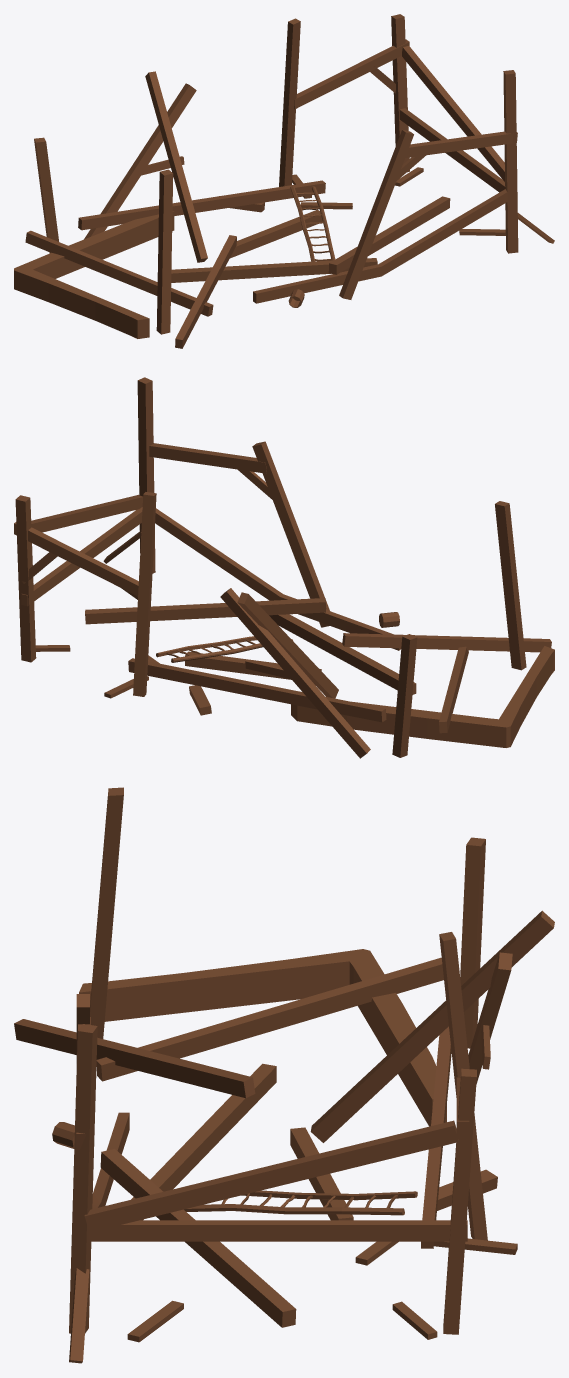
The model's file is BuildingZero.fbx.
The picture shows the model from 3 angles, top to bottom: view 1: azimuth 30°, elevation 25°; view 2: azimuth 150°, elevation 25°; view 3: azimuth 270°, elevation 25°; orthographic projection. The views are drawn at different scales.
Parts seen in each view (by area): view 1: BuildingZero; view 2: BuildingZero; view 3: BuildingZero.
Part boxes in pixels (left/top/right/bottom): BuildingZero: left=14, top=14, right=554, bottom=348; BuildingZero: left=14, top=377, right=554, bottom=758; BuildingZero: left=14, top=787, right=554, bottom=1363.
Bounding box in the file's own units: 9.66 × 3.81 × 5.82.
